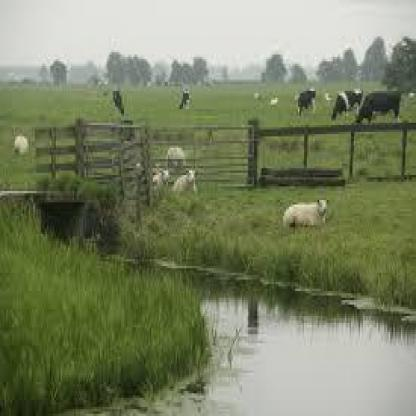cow: (356, 87, 405, 124), (283, 199, 331, 228), (330, 86, 366, 121), (170, 168, 199, 193), (108, 83, 128, 117), (296, 90, 317, 112), (151, 169, 171, 192), (165, 146, 189, 164), (176, 90, 193, 112), (14, 136, 29, 154)
